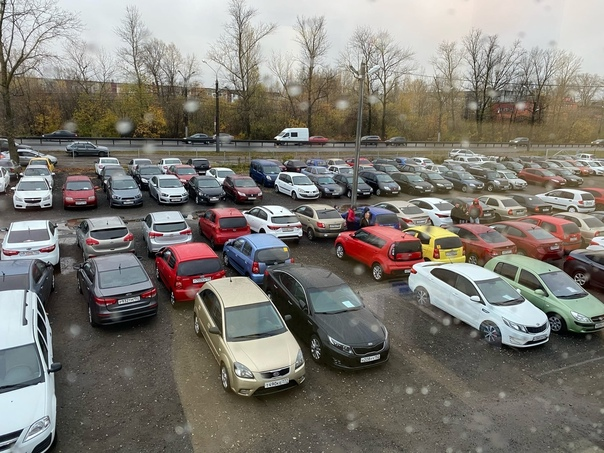Car: (193, 276, 306, 397), (263, 264, 390, 369), (408, 262, 551, 348), (0, 288, 62, 453), (484, 254, 604, 334), (77, 253, 158, 325), (335, 226, 424, 281), (154, 242, 227, 308), (221, 233, 294, 285), (441, 224, 517, 266), (484, 221, 563, 261), (2, 220, 61, 272), (514, 214, 582, 254), (0, 259, 56, 305), (77, 216, 135, 260), (401, 226, 466, 263), (141, 211, 193, 255), (242, 205, 303, 242), (289, 204, 347, 241), (198, 208, 250, 248), (549, 211, 604, 245), (370, 200, 431, 230), (564, 249, 604, 290), (341, 206, 401, 231), (535, 189, 596, 213), (407, 197, 454, 227), (441, 197, 495, 223), (11, 177, 53, 210), (476, 195, 528, 221), (275, 172, 320, 200), (62, 175, 98, 209), (149, 174, 188, 204), (106, 176, 143, 207), (223, 175, 263, 203), (358, 171, 402, 196), (504, 193, 554, 215), (465, 166, 508, 191), (188, 176, 226, 204), (332, 173, 373, 198), (440, 170, 484, 193), (389, 172, 434, 194), (517, 168, 566, 187), (0, 149, 58, 165), (411, 170, 453, 192), (249, 159, 281, 187), (307, 174, 342, 197), (135, 164, 164, 190), (166, 164, 199, 186), (20, 165, 54, 186), (66, 141, 109, 157), (546, 168, 583, 186), (101, 165, 127, 190), (495, 170, 527, 190), (206, 167, 236, 187), (273, 128, 308, 145), (545, 159, 581, 175), (578, 188, 604, 210), (94, 157, 120, 178), (575, 159, 604, 176), (0, 158, 22, 179), (0, 138, 33, 152), (185, 158, 211, 175), (499, 161, 526, 177), (128, 158, 153, 175), (157, 157, 182, 174), (448, 148, 485, 159), (564, 160, 593, 174), (42, 130, 78, 141), (301, 166, 334, 178), (28, 157, 54, 172), (443, 156, 480, 166), (182, 133, 214, 144), (282, 159, 308, 172), (264, 158, 287, 172), (372, 164, 401, 175), (327, 164, 353, 176), (408, 156, 435, 167), (424, 164, 450, 175), (374, 159, 400, 170), (0, 166, 10, 194), (586, 235, 604, 250), (398, 164, 430, 172), (392, 157, 417, 167), (213, 133, 234, 144), (325, 159, 350, 168), (480, 162, 508, 170), (345, 158, 373, 166), (587, 210, 604, 223), (534, 161, 561, 169), (441, 162, 465, 171), (519, 154, 545, 162), (305, 159, 327, 168), (456, 163, 479, 171), (509, 137, 529, 146), (385, 137, 405, 146), (361, 136, 381, 145), (358, 164, 377, 173), (474, 156, 491, 166), (575, 153, 596, 161), (519, 162, 543, 168), (371, 158, 392, 164), (309, 136, 328, 142), (590, 139, 604, 147), (508, 157, 526, 163), (547, 155, 573, 159), (487, 156, 502, 162), (593, 160, 604, 168), (568, 155, 582, 160), (594, 158, 604, 162)
